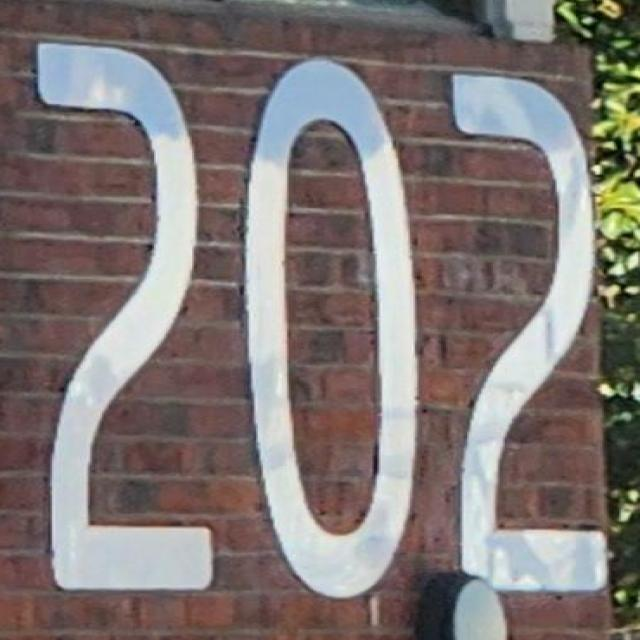character: (238, 52, 428, 602), (35, 39, 219, 598), (447, 70, 614, 601)
